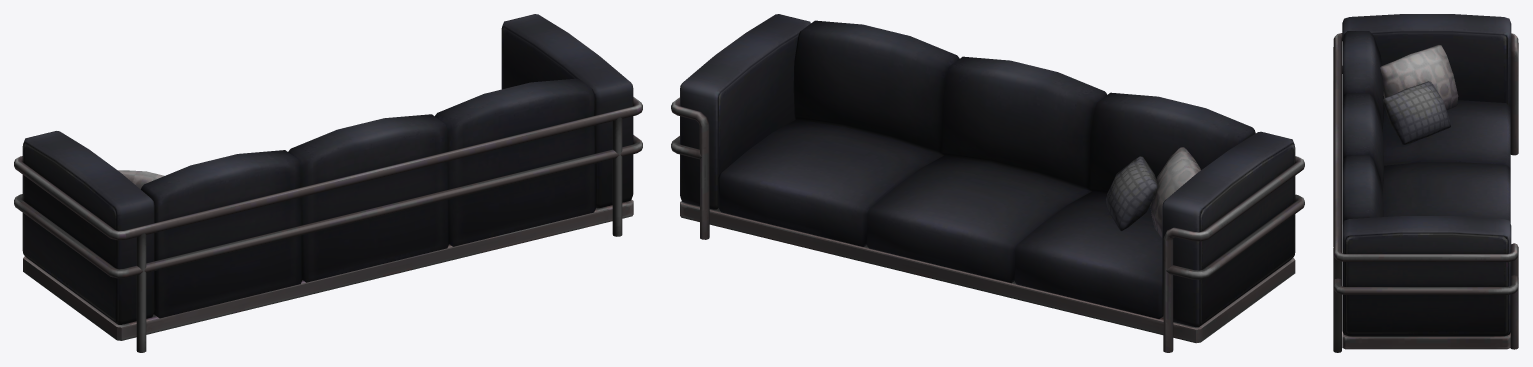
The model's file is furn_we2021_sofa_001.gltf.
The picture shows the model from 3 angles, left to right: view 1: azimuth 30°, elevation 25°; view 2: azimuth 150°, elevation 25°; view 3: azimuth 270°, elevation 25°; orthographic projection. The views are drawn at different scales.
Visible parts, largest first — view 1: we2021_sofa_001; view 2: we2021_sofa_001; view 3: we2021_sofa_001.
Boxes of the visible parts, bbox=[...] form: we2021_sofa_001: bbox=[14, 14, 642, 352]; we2021_sofa_001: bbox=[671, 14, 1304, 352]; we2021_sofa_001: bbox=[1333, 14, 1518, 352].
Size of the model in its own units: 1.85 by 0.5135 by 0.6425.
Materials: 1 (1 with a texture image).
